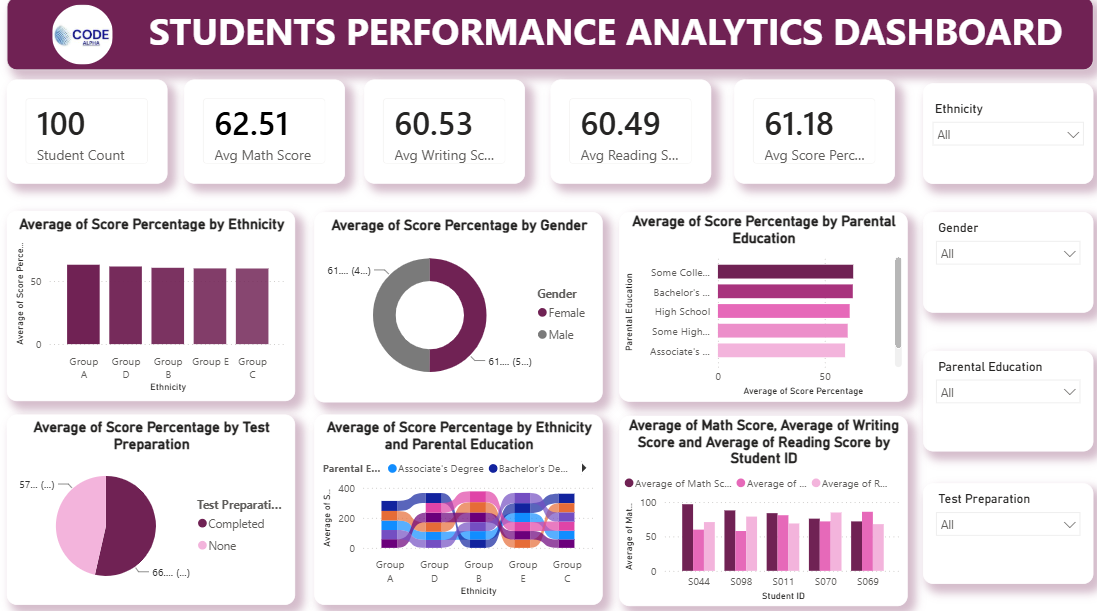

This screenshot's page, from the dashboard's own definition file:
{"tool":"powerbi","page":{"name":"Page 1","canvas":[1280,720],"ordinal":0},"visuals":[{"type":"textbox","box":[9.6,0,1259.7,85],"z":0},{"type":"image","box":[62.5,8.3,70.8,69.4],"z":1},{"type":"cardVisual","fields":{"Data":["Count(Sheet1.Student ID)"]},"box":[9.7,95.8,186.1,120.8],"z":2},{"type":"cardVisual","fields":{"Data":["Avg(Sheet1.Math Score)"]},"box":[215.3,95.8,186.1,120.8],"z":3},{"type":"cardVisual","fields":{"Data":["Avg(Sheet1.Writing Score)"]},"box":[425,95.8,186.1,120.8],"z":4},{"type":"cardVisual","fields":{"Data":["Avg(Sheet1.Reading Score)"]},"box":[640.3,95.8,186.1,120.8],"z":5},{"type":"cardVisual","fields":{"Data":["Avg(Sheet1.Score Percentage)"]},"box":[854.2,95.8,186.1,120.8],"z":6},{"type":"slicer","fields":{"Values":["Sheet1.Ethnicity"]},"box":[1072.2,100,197.2,116.7],"z":7},{"type":"slicer","fields":{"Values":["Sheet1.Gender"]},"box":[1072.2,248.6,197.2,116.7],"z":8},{"type":"slicer","fields":{"Values":["Sheet1.Parental Education"]},"box":[1072.2,409.7,197.2,116.7],"z":9},{"type":"columnChart","fields":{"Y":["Avg(Sheet1.Score Percentage)"],"Category":["Sheet1.Ethnicity"]},"box":[9.7,247.2,334.7,220.8],"z":10},{"type":"donutChart","fields":{"Category":["Sheet1.Gender"],"Y":["Avg(Sheet1.Score Percentage)"]},"box":[366.7,248.6,334.7,220.8],"z":11},{"type":"clusteredBarChart","fields":{"Y":["Avg(Sheet1.Score Percentage)"],"Category":["Sheet1.Parental Education"]},"box":[720.8,248.6,334,220],"z":12},{"type":"pieChart","fields":{"Category":["Sheet1.Test Preparation"],"Y":["Avg(Sheet1.Score Percentage)"]},"box":[9.7,484.7,334.7,220.8],"z":13},{"type":"ribbonChart","fields":{"Y":["Avg(Sheet1.Score Percentage)"],"Series":["Sheet1.Parental Education"],"Category":["Sheet1.Ethnicity"]},"box":[366.7,484.7,334.7,220.8],"z":14},{"type":"clusteredColumnChart","fields":{"Y":["Avg(Sheet1.Math Score)","Avg(Sheet1.Writing Score)","Avg(Sheet1.Reading Score)"],"Category":["Sheet1.Student ID"]},"box":[721,485,334,221],"z":15},{"type":"slicer","fields":{"Values":["Sheet1.Test Preparation"]},"box":[1072.2,563.9,197.2,116.7],"z":16}]}

Visuals, with their boxes in screenshot pixels (x1, y1, x2, y2), scaled from the page's 1280x720 canvas onto the 1097x611 screenshot:
textbox: {"x1": 8, "y1": 0, "x2": 1088, "y2": 72}
image: {"x1": 54, "y1": 7, "x2": 114, "y2": 66}
cardVisual - Count(Sheet1.Student ID): {"x1": 8, "y1": 81, "x2": 168, "y2": 184}
cardVisual - Avg(Sheet1.Math Score): {"x1": 185, "y1": 81, "x2": 344, "y2": 184}
cardVisual - Avg(Sheet1.Writing Score): {"x1": 364, "y1": 81, "x2": 524, "y2": 184}
cardVisual - Avg(Sheet1.Reading Score): {"x1": 549, "y1": 81, "x2": 708, "y2": 184}
cardVisual - Avg(Sheet1.Score Percentage): {"x1": 732, "y1": 81, "x2": 892, "y2": 184}
slicer - Sheet1.Ethnicity: {"x1": 919, "y1": 85, "x2": 1088, "y2": 184}
slicer - Sheet1.Gender: {"x1": 919, "y1": 211, "x2": 1088, "y2": 310}
slicer - Sheet1.Parental Education: {"x1": 919, "y1": 348, "x2": 1088, "y2": 447}
columnChart - Avg(Sheet1.Score Percentage) x Sheet1.Ethnicity: {"x1": 8, "y1": 210, "x2": 295, "y2": 397}
donutChart - Sheet1.Gender x Avg(Sheet1.Score Percentage): {"x1": 314, "y1": 211, "x2": 601, "y2": 398}
clusteredBarChart - Avg(Sheet1.Score Percentage) x Sheet1.Parental Education: {"x1": 618, "y1": 211, "x2": 904, "y2": 398}
pieChart - Sheet1.Test Preparation x Avg(Sheet1.Score Percentage): {"x1": 8, "y1": 411, "x2": 295, "y2": 599}
ribbonChart - Avg(Sheet1.Score Percentage) x Sheet1.Parental Education: {"x1": 314, "y1": 411, "x2": 601, "y2": 599}
clusteredColumnChart - Avg(Sheet1.Math Score) x Avg(Sheet1.Writing Score): {"x1": 618, "y1": 412, "x2": 904, "y2": 599}
slicer - Sheet1.Test Preparation: {"x1": 919, "y1": 479, "x2": 1088, "y2": 578}
